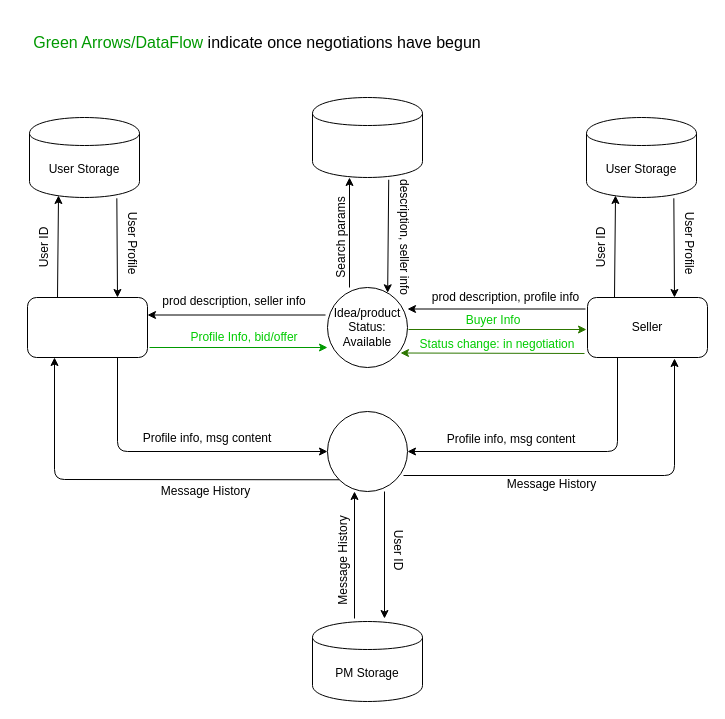
Image size: 725x719. Some labels were removed from this diagram. The shapes that lost their labels are listed below. From the top down, each one's box as (x1, y1, x2, y2) in pixels, then its label:
(312, 96, 422, 178): Product Storage
(26, 296, 148, 358): Potential Buyer
(326, 410, 408, 492): Private Messages
